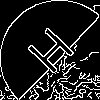H: (25, 25, 84, 83)
